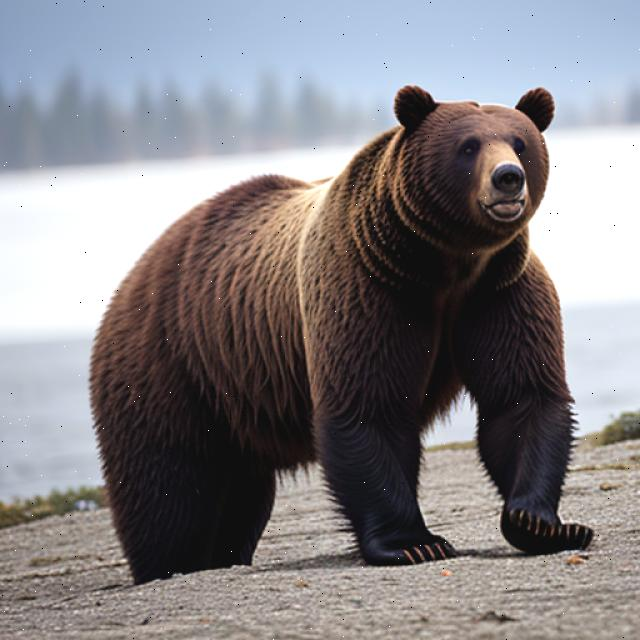bear: (88, 91, 582, 468)
